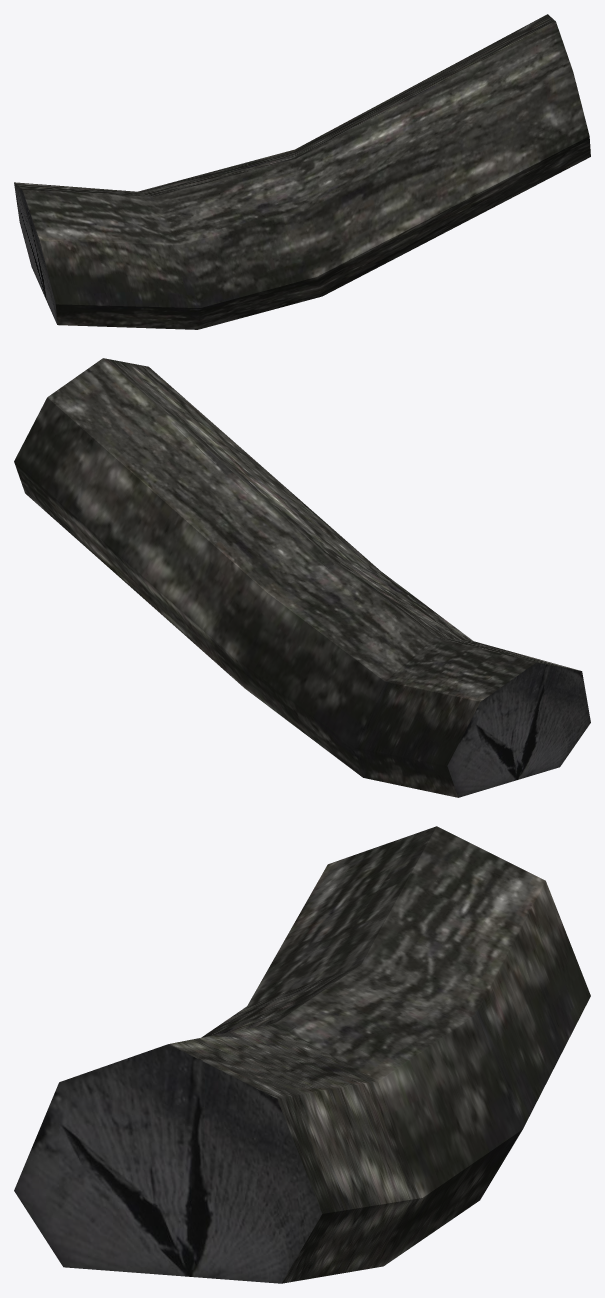
The model's file is mokutan.fbx.
The picture shows the model from 3 angles, top to bottom: view 1: azimuth 30°, elevation 25°; view 2: azimuth 150°, elevation 25°; view 3: azimuth 270°, elevation 25°; orthographic projection. The views are drawn at different scales.
Visible parts, largest first — view 1: mokutanippon_1; view 2: mokutanippon_1; view 3: mokutanippon_1.
Boxes of the visible parts, x1,y1,x2,y2 form: mokutanippon_1: (14,14,590,329); mokutanippon_1: (14,358,590,797); mokutanippon_1: (14,826,590,1283).
Bounding box in the file's own units: 3.17 × 1.43 × 1.66.
Materials: 1 (1 with a texture image).
